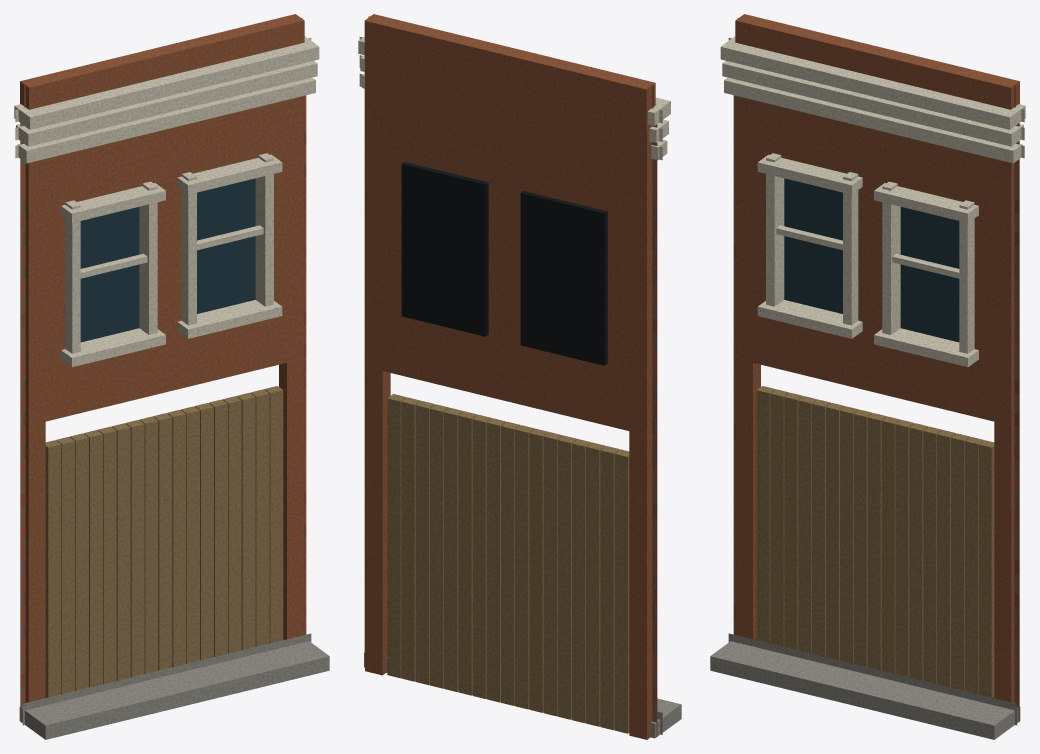
File: CLSTGA20_lod2.glb
3 views of the same model, side by side, from view 1: azimuth 30°, elevation 25°; view 2: azimuth 150°, elevation 25°; view 3: azimuth 330°, elevation 25° (orthographic). The views are drawn at different scales.
Visible parts, largest first — view 1: CLSTGA20_FRONT_LOD2; view 2: CLSTGA20_FRONT_LOD2; view 3: CLSTGA20_FRONT_LOD2.
Boxes of the visible parts, <box> form: CLSTGA20_FRONT_LOD2: <box>14,14,329,739</box>; CLSTGA20_FRONT_LOD2: <box>358,14,681,739</box>; CLSTGA20_FRONT_LOD2: <box>710,14,1025,739</box>.
Size of the model in its own units: 3.44 by 7.05 by 0.65.
8 materials, 6 textured.
